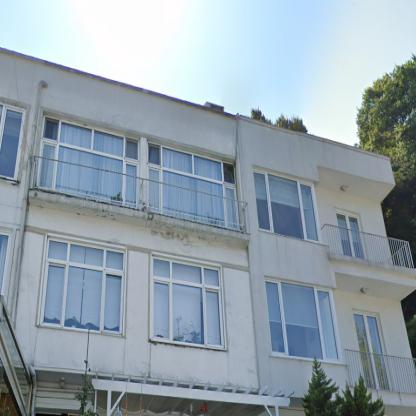window: (37, 117, 140, 205), (42, 239, 125, 332), (149, 141, 238, 227), (265, 280, 339, 362), (154, 258, 222, 344), (254, 170, 320, 241), (354, 313, 389, 389), (0, 101, 25, 179), (337, 212, 364, 258), (0, 235, 9, 292)
